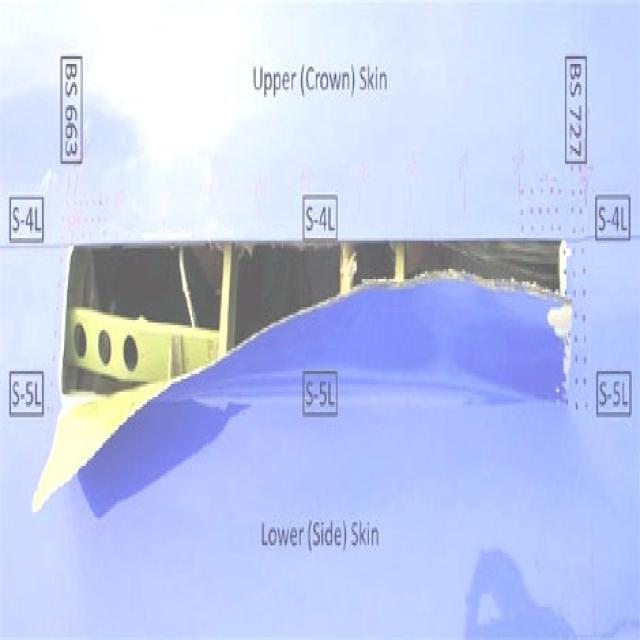crack: (35, 237, 570, 516)
